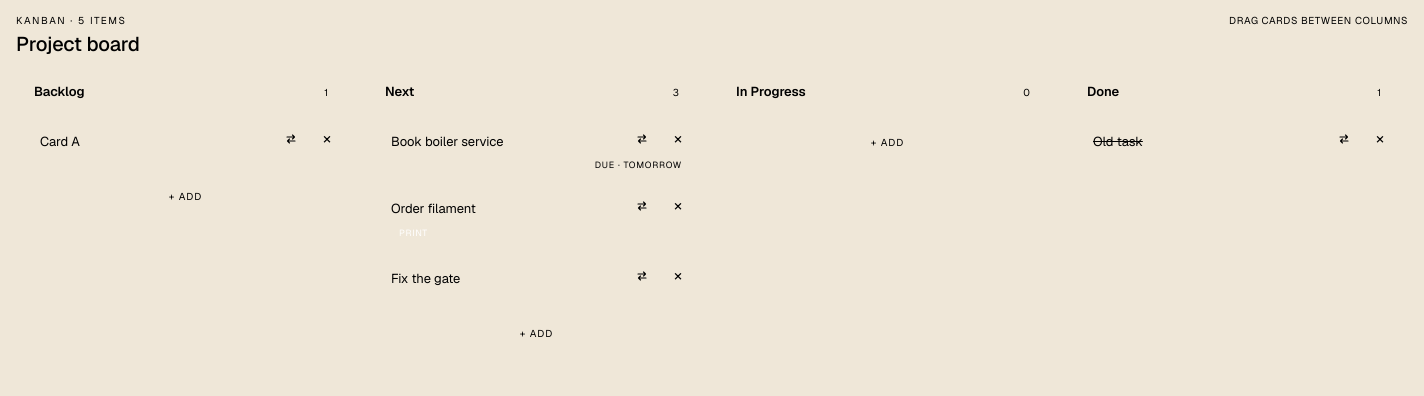
Scenario: D16: a cross-list move carries the task as HA holds it now › doesn't bring back a tag or a due date cleared elsewhere
Click the button named "Move Book boiler service".
click(642, 139)  # box [630,127,654,151]
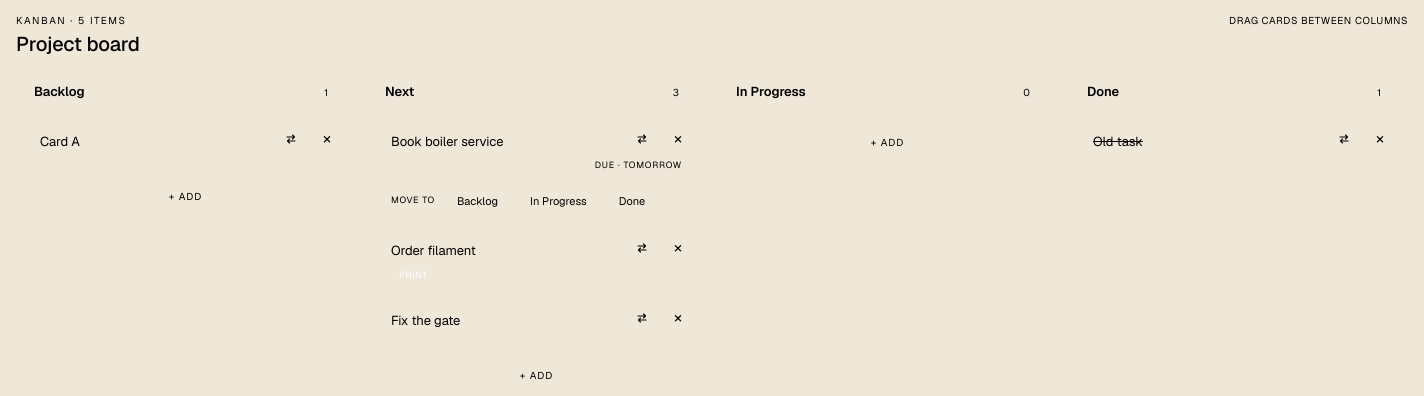
Click the button "In Progress".
click(558, 201)  # box [518,188,599,214]
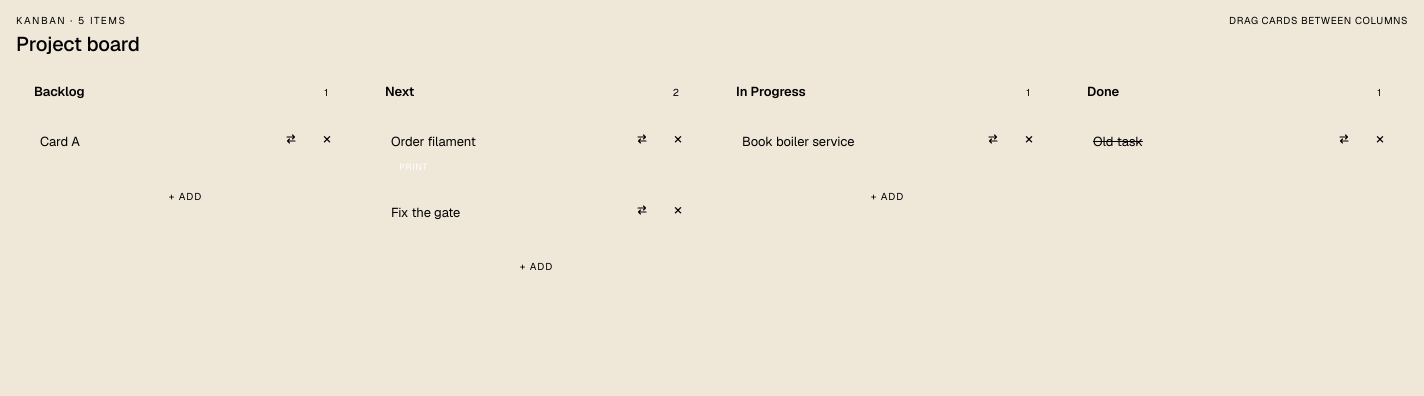
Click the button named "Move Order filament".
click(642, 139)  # box [630,127,654,151]
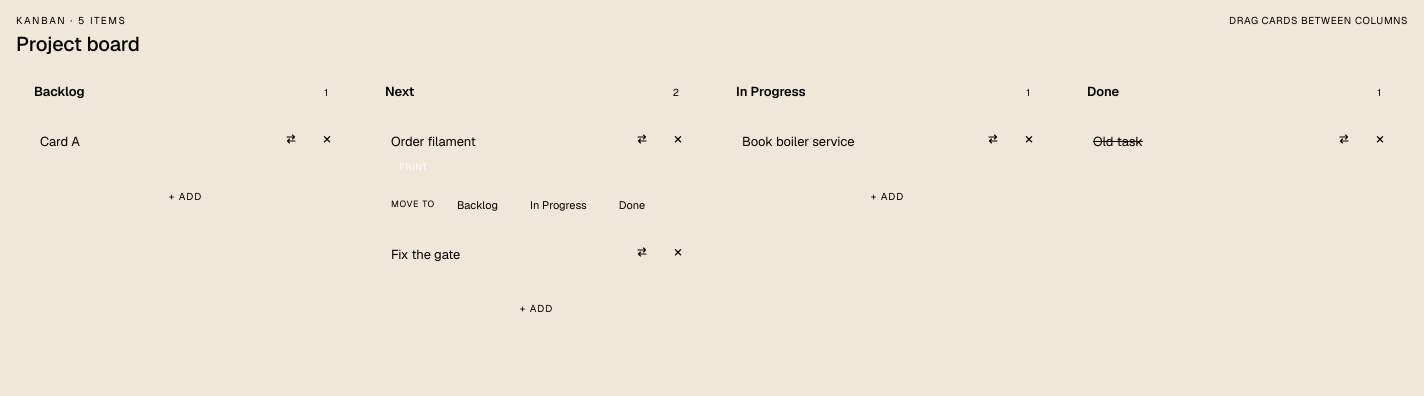
Click the button "Backlog".
click(477, 205)  # box [445,192,510,218]
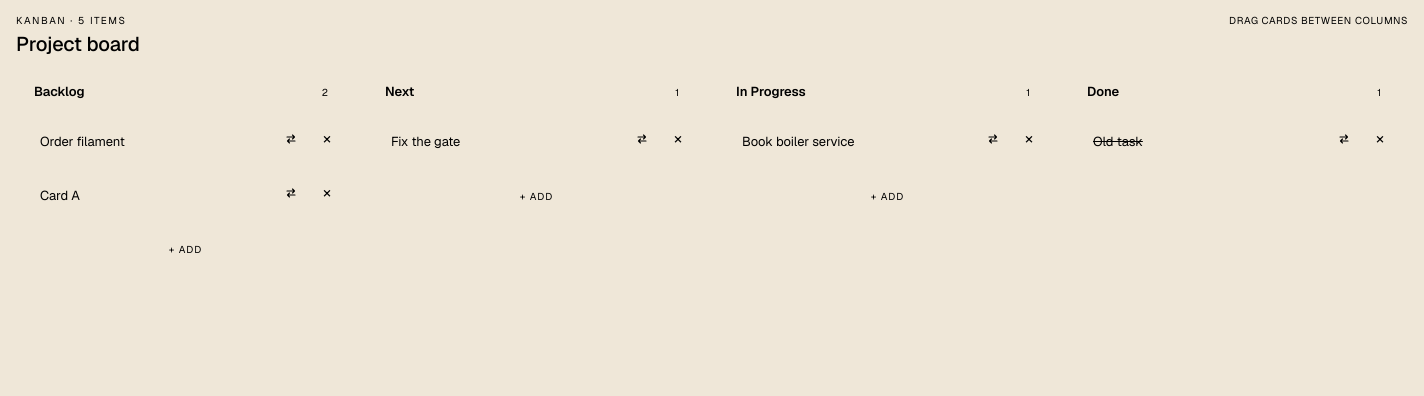
Expected: the text "due ·" is not shown
Expected: the text "print" is gone
